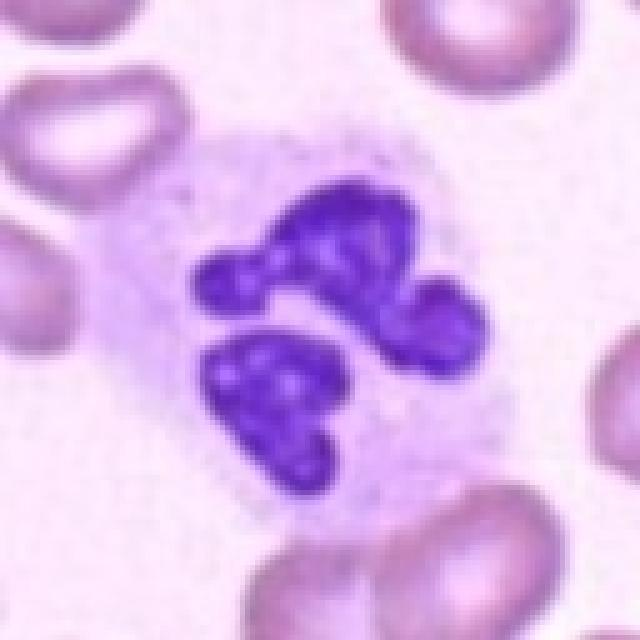neutro: (55, 100, 589, 531)
